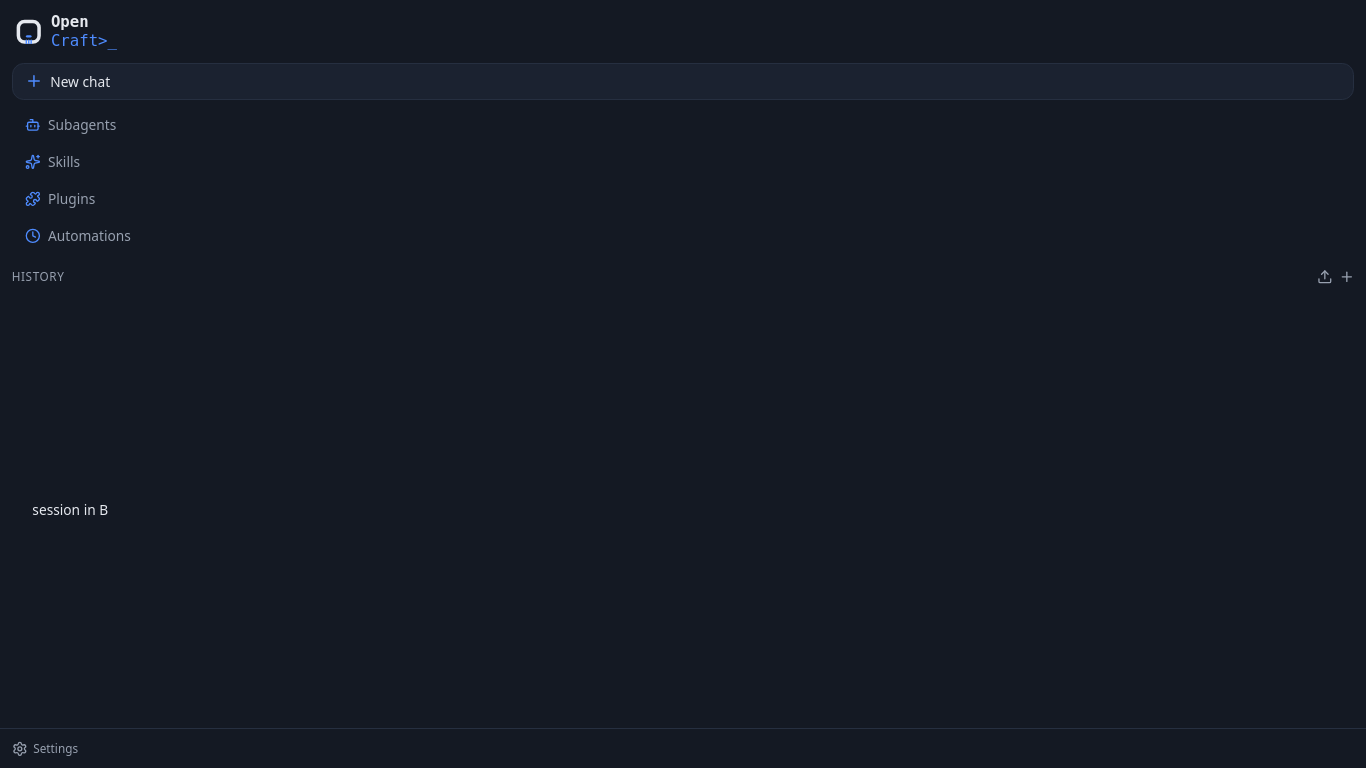
Test: Sidebar workspace history › renders session rows with the title only and turns in the hover card
(page scrolled)
Hover over the element "session in B": (689, 510) [24,493,1354,526]
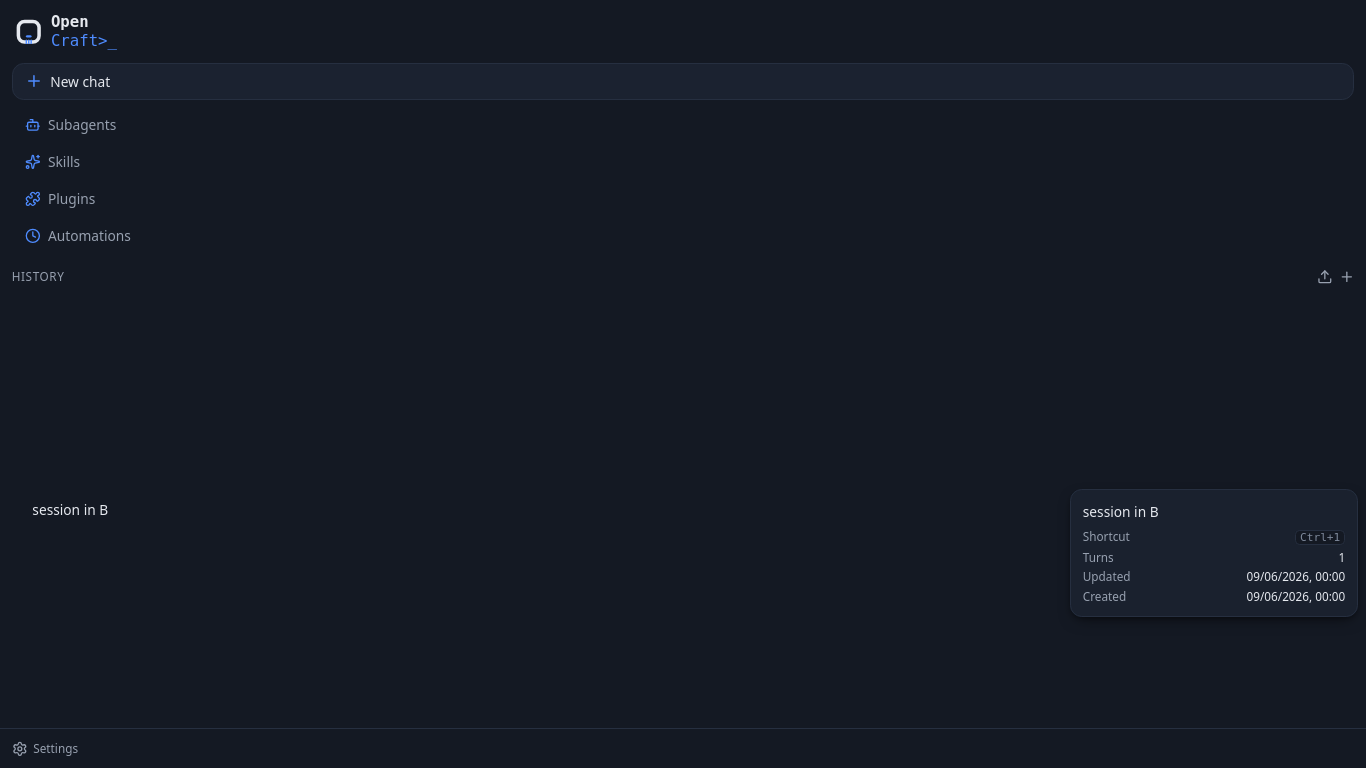
expect the text "1" is shown: met, box [1338,550,1345,565]
